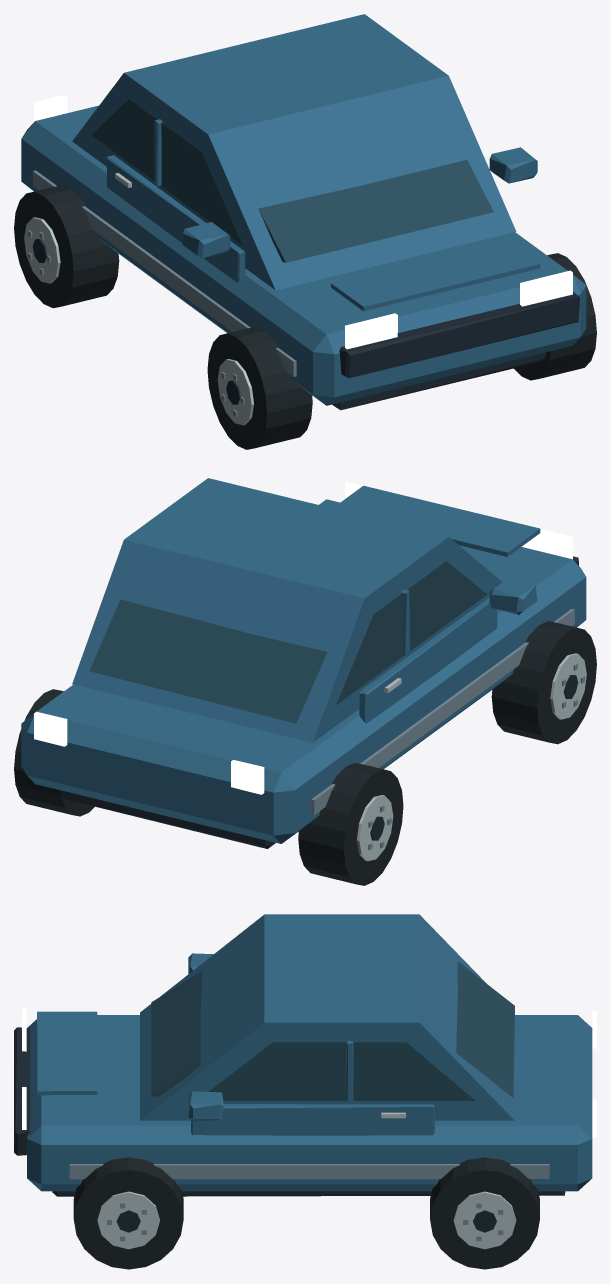
File: road-compact.lod1.glb
The picture shows the model from 3 angles, top to bottom: view 1: azimuth 30°, elevation 25°; view 2: azimuth 150°, elevation 25°; view 3: azimuth 270°, elevation 25°; orthographic projection. The views are drawn at different scales.
Parts seen in each view (by area): view 1: road-compact__body, road-compact__door_-1, road-compact__wheel_steer_0_l, road-compact__wheel_steer_1_l, road-compact__wheel_steer_0_r; view 2: road-compact__body, road-compact__door_-1, road-compact__wheel_steer_0_l, road-compact__wheel_steer_1_l, road-compact__wheel_steer_1_r; view 3: road-compact__body, road-compact__door_1, road-compact__wheel_steer_0_r, road-compact__wheel_steer_1_r.
Part boxes in pixels (x1,y1,x2,y2): road-compact__body: (21,14,586,410); road-compact__door_-1: (91,99,245,282); road-compact__wheel_steer_0_l: (207,327,312,449); road-compact__wheel_steer_1_l: (14,185,119,308); road-compact__wheel_steer_0_r: (514,253,596,380); road-compact__body: (21,478,586,848); road-compact__door_-1: (336,561,497,723); road-compact__wheel_steer_0_l: (491,621,596,744); road-compact__wheel_steer_1_l: (298,763,403,885); road-compact__wheel_steer_1_r: (14,689,94,816); road-compact__body: (14,914,596,1196); road-compact__door_1: (191,1040,475,1135); road-compact__wheel_steer_0_r: (73,1157,183,1269); road-compact__wheel_steer_1_r: (430,1157,539,1269).
Size of the model in its own units: 2.25 by 1.55 by 3.61.
